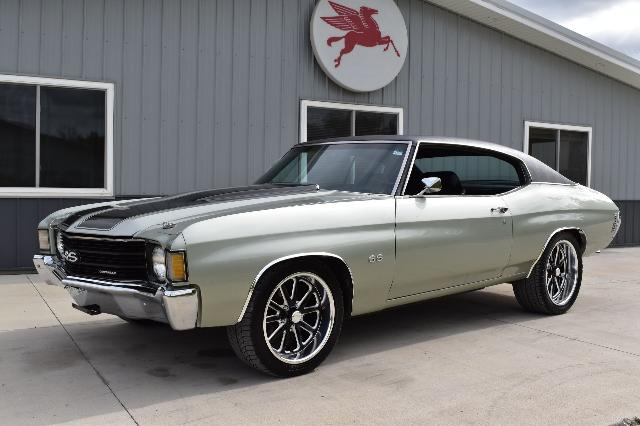chevelle-1972: (34, 135, 620, 376)
